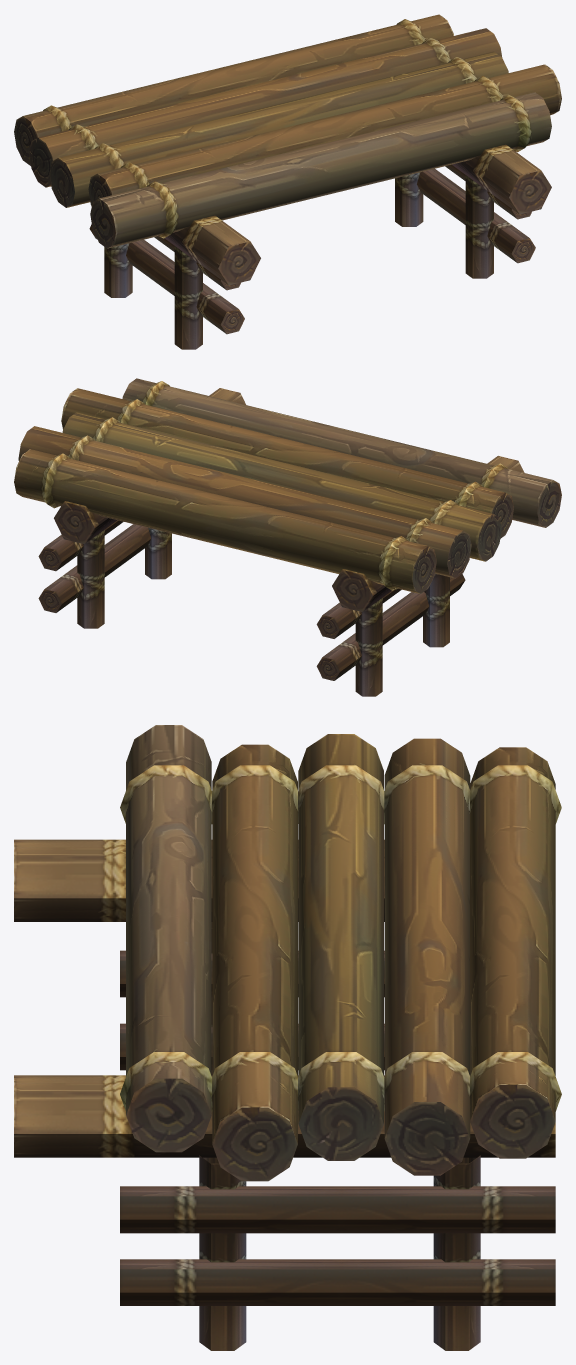
The model's file is scenes_beach_road01.FBX.
3 renders of one model, top to bottom at view 1: azimuth 30°, elevation 25°; view 2: azimuth 150°, elevation 25°; view 3: azimuth 270°, elevation 25°, orthographic. The views are drawn at different scales.
Visible parts, largest first — view 1: scenes_beach_road01; view 2: scenes_beach_road01; view 3: scenes_beach_road01.
Part boxes in pixels (left/top/right/bottom): scenes_beach_road01: left=14, top=14, right=561, bottom=349; scenes_beach_road01: left=14, top=378, right=561, bottom=696; scenes_beach_road01: left=14, top=725, right=561, bottom=1350.
Size of the model in its own units: 635 by 235 by 384.
